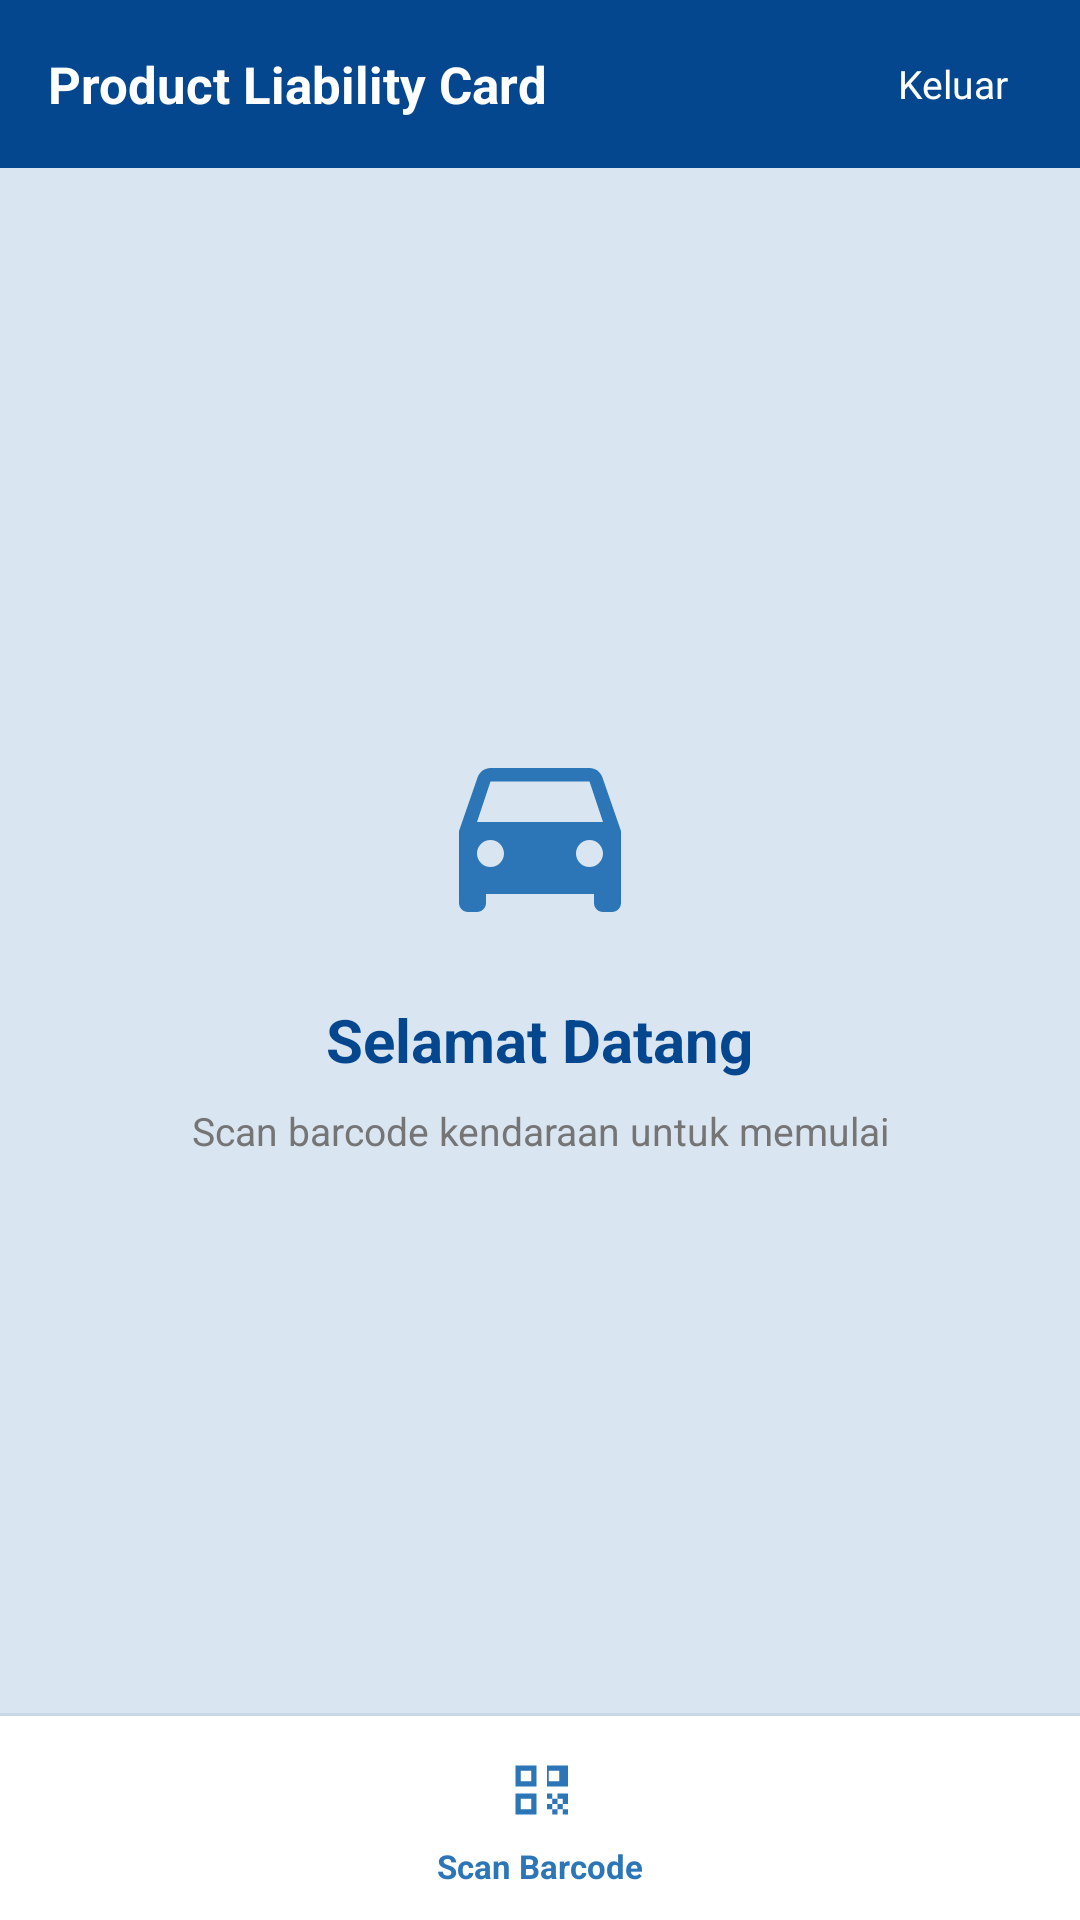

Screen size 1080*1920. Icon name, then its box in pixels as (x1, y1, x2, y2):
car: (459, 768, 621, 912)
qr code: (515, 1765, 568, 1815)
